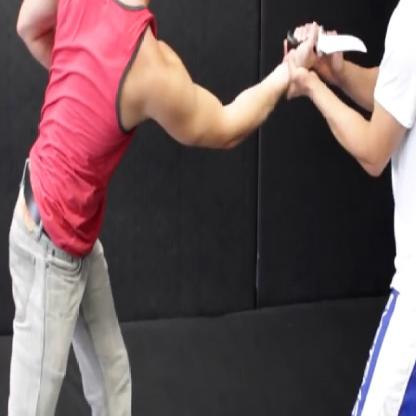knife: (278, 12, 373, 64)
